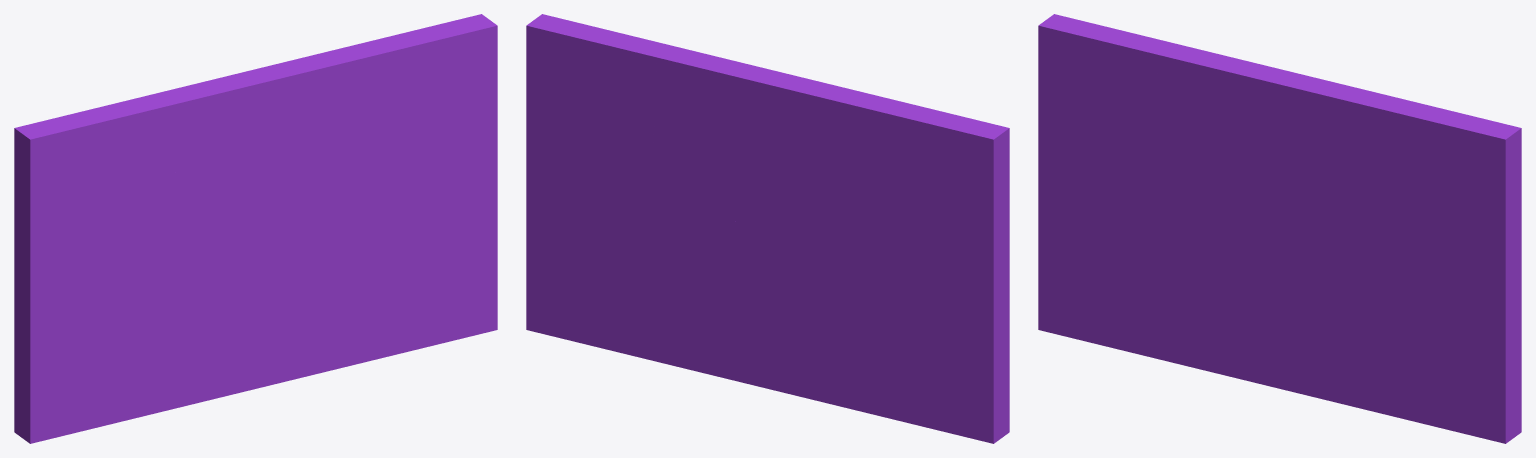
Rendered from Barrier_83_chunks.fbx.
3 views of the same model, side by side, from view 1: azimuth 30°, elevation 25°; view 2: azimuth 150°, elevation 25°; view 3: azimuth 330°, elevation 25° (orthographic).
Parts seen in each view (by area): view 1: Barrier_83_2, Barrier_83_1, Barrier_83_6, Barrier_83_3, Barrier_83_5, Barrier_83_0; view 2: Barrier_83_2, Barrier_83_1, Barrier_83_0, Barrier_83_5, Barrier_83_6; view 3: Barrier_83_2, Barrier_83_1, Barrier_83_6, Barrier_83_3, Barrier_83_5, Barrier_83_0.
Boxes of the visible parts, x1,y1,x2,y2 form: Barrier_83_2: (14, 118, 264, 443); Barrier_83_1: (247, 79, 497, 390); Barrier_83_6: (148, 42, 382, 168); Barrier_83_3: (171, 113, 388, 244); Barrier_83_5: (357, 14, 497, 156); Barrier_83_0: (55, 46, 347, 152); Barrier_83_2: (763, 111, 1009, 443); Barrier_83_1: (526, 59, 780, 391); Barrier_83_0: (653, 57, 953, 245); Barrier_83_5: (526, 14, 656, 144); Barrier_83_6: (644, 42, 889, 98); Barrier_83_2: (1038, 14, 1272, 382); Barrier_83_1: (1255, 161, 1521, 443); Barrier_83_6: (1156, 54, 1403, 158); Barrier_83_3: (1179, 123, 1396, 244); Barrier_83_5: (1365, 99, 1521, 216); Barrier_83_0: (1094, 24, 1389, 96).
Size of the model in its own units: 462 by 288 by 27.2.
